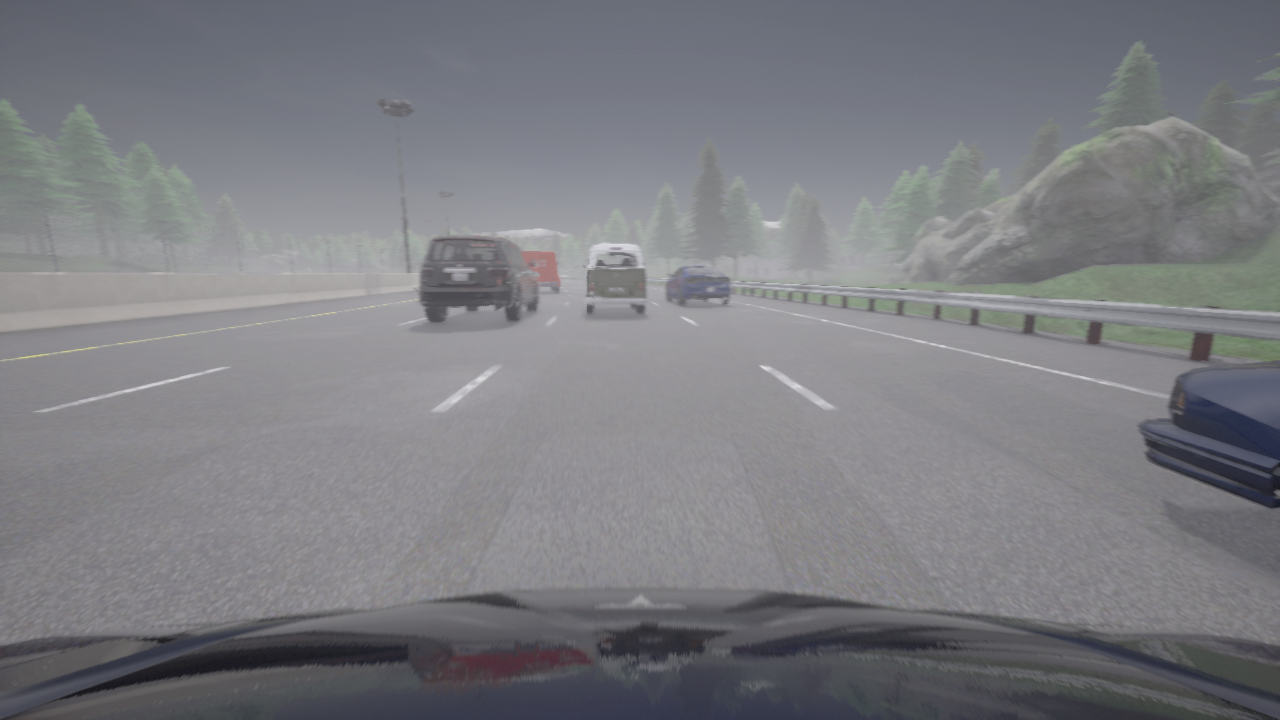cyclist: (0, 588, 1279, 719), (1138, 361, 1279, 509), (419, 237, 537, 322), (582, 243, 646, 314), (665, 265, 730, 305), (521, 252, 559, 292)
